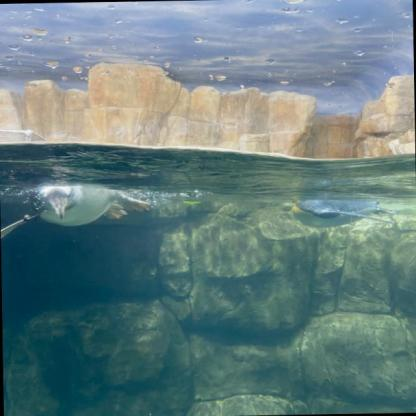penguin: (0, 181, 153, 241), (292, 200, 402, 230)
